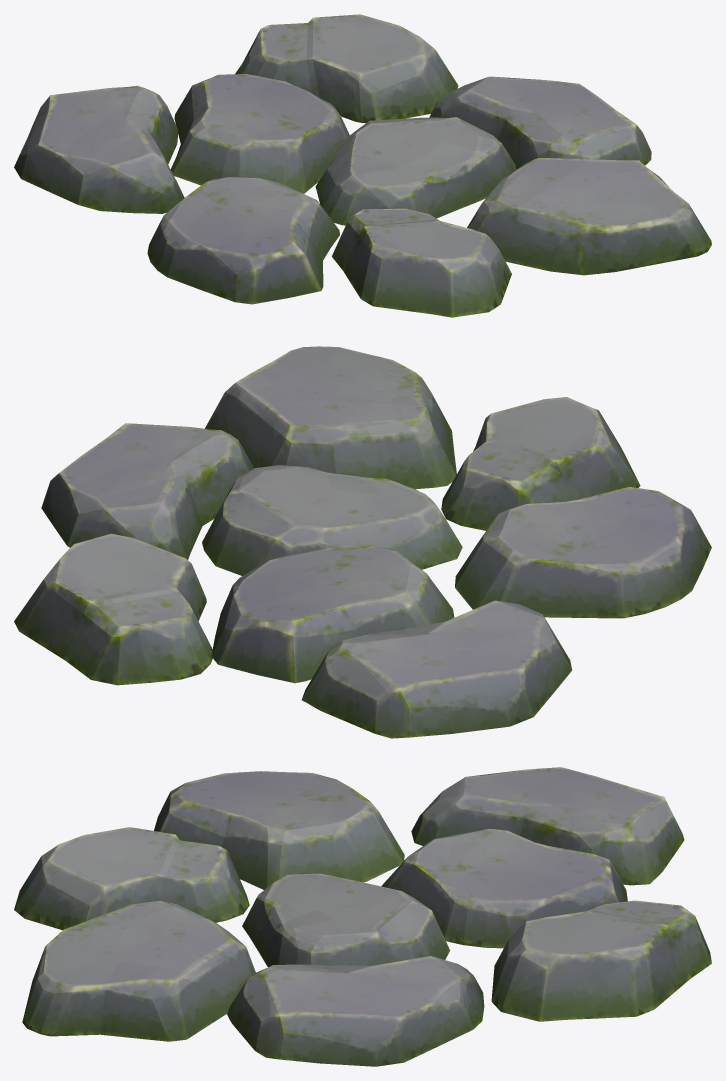
File: RockPath_Round_Small_3.glb
3 views of the same model, one above another, from view 1: azimuth 30°, elevation 25°; view 2: azimuth 150°, elevation 25°; view 3: azimuth 270°, elevation 25° (orthographic). The views are drawn at different scales.
Parts seen in each view (by area): view 1: RockPath_Round_Small_3; view 2: RockPath_Round_Small_3; view 3: RockPath_Round_Small_3.
Boxes of the visible parts, x1,y1,x2,y2 form: RockPath_Round_Small_3: (14,14,711,317); RockPath_Round_Small_3: (14,346,711,738); RockPath_Round_Small_3: (14,767,711,1066).
Bounding box in the file's own units: 1.18 × 0.1093 × 1.29.
Materials: 1 (1 with a texture image).
